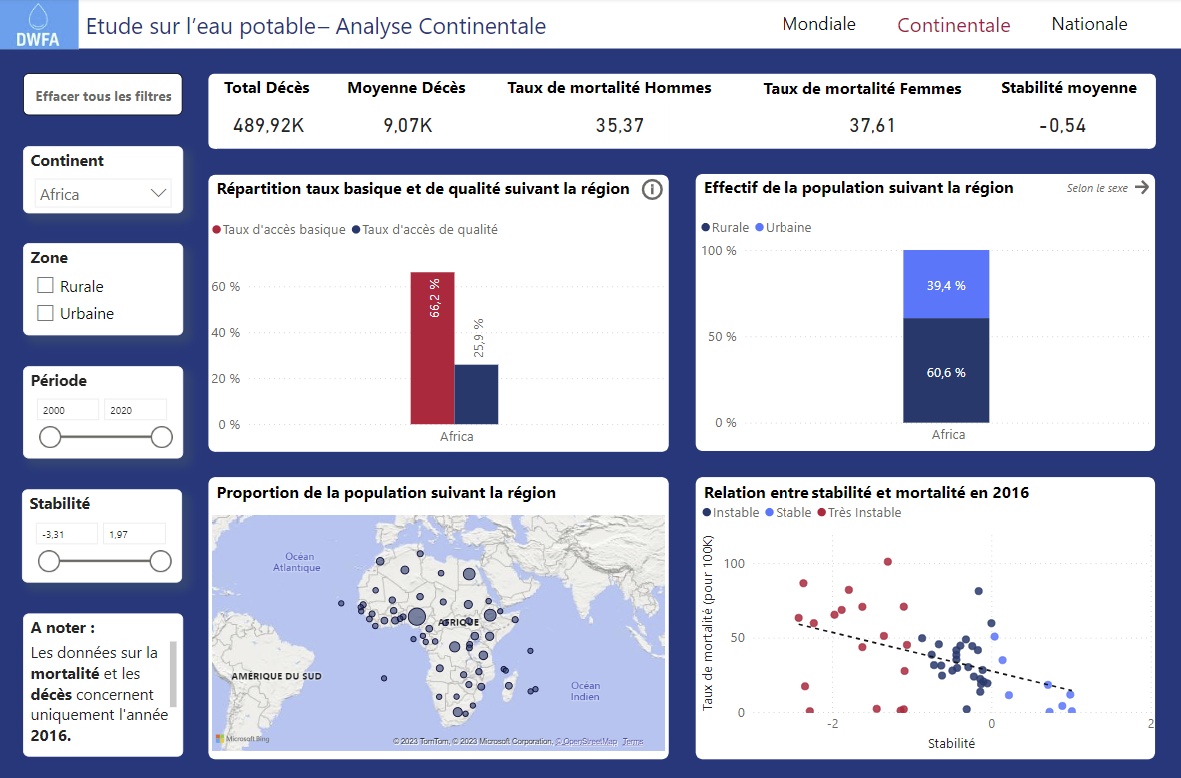

This screenshot's page, from the dashboard's own definition file:
{"tool":"powerbi","page":{"name":"Continentale","canvas":[1408,930],"ordinal":1},"visuals":[{"type":"card","fields":{"Values":["Data_2016.Total Décès"]},"box":[261.9,125,120,50],"z":0},{"type":"card","fields":{"Values":["Data_2016.Taux de mortalité femmes"]},"box":[678.4,125,119.6,49.5],"z":1000},{"type":"textbox","title":"A noter :","box":[30,730,190,169.8],"z":2000},{"type":"card","fields":{"Values":["Data_2016.Moyenne des Décès"]},"box":[426.8,125,119.6,49.5],"z":3000},{"type":"card","fields":{"Values":["Data_Total.Avg Stabilité"]},"box":[1206.2,125,119.6,49.5],"z":4000},{"type":"card","fields":{"Values":["Data_2016.Taux de mortalité hommes"]},"box":[981.5,125,119.6,49.5],"z":5000},{"type":"scatterChart","fields":{"Series":["Dim_Stabilite.Classement Stabilité"],"Y":["Data_2016.Taux de mortalité (pour 100K)"],"X":["Data_2016.Stabilité"]},"box":[830.4,589.4,549.5,310.3],"z":6000},{"type":"pageNavigator","box":[901,0,475,60],"z":7000},{"type":"slicer","title":"Stabilité","fields":{"Values":["Dim_Stabilite.Stabilité"]},"box":[29,584,190,110],"z":8000},{"type":"actionButton","box":[30,90,189.7,50],"z":10000},{"type":"slicer","title":"Continent","fields":{"Values":["Dim_Pays.Continent"]},"box":[30,176,190,80],"z":11000},{"type":"actionButton","box":[760,210,35,35],"z":13000},{"type":"map","fields":{"Category":["Dim_Pays.Pays"],"Size":["Data_Total.% Proportion population globale"]},"box":[249.6,610.2,547.8,289.5],"z":14000},{"type":"columnChart","title":"% Rurale - Urbaine","fields":{"Category":["Dim_Pays.Continent"],"Series":["Data_Zone.Zone"],"Y":["Data_Zone.% Population (R/U)"]},"box":[829.7,250.8,549.7,290.3],"z":16000},{"type":"clusteredColumnChart","title":"% Population","fields":{"Category":["Dim_Pays.Continent"],"Y":["Data_Total.Avg Taux d'accès basique (%)","Data_Total.Avg Taux d'accès de qualité (%)"]},"box":[247.9,253.1,549.5,289.5],"z":18000},{"type":"slicer","title":"Zone","fields":{"Values":["Data_Zone.Zone"]},"box":[30,292,190,110],"z":19000},{"type":"actionButton","title":"Button selon sexe","box":[1265.6,210,110,30],"z":20000},{"type":"slicer","title":"Période","fields":{"Values":["Dim_Calendrier.Année"]},"box":[30,438,190,110],"z":22000}]}

Visuals, with their boxes in screenshot pixels (x1, y1, x2, y2), scaled from the page's 1408x930 canvas onto the 1181x778 screenshot:
card - Data_2016.Total Décès: pyautogui.locateOnScreen(220, 105, 320, 146)
card - Data_2016.Taux de mortalité femmes: pyautogui.locateOnScreen(569, 105, 669, 146)
"A noter :" textbox: pyautogui.locateOnScreen(25, 611, 185, 753)
card - Data_2016.Moyenne des Décès: pyautogui.locateOnScreen(358, 105, 458, 146)
card - Data_Total.Avg Stabilité: pyautogui.locateOnScreen(1012, 105, 1112, 146)
card - Data_2016.Taux de mortalité hommes: pyautogui.locateOnScreen(823, 105, 924, 146)
scatterChart - Dim_Stabilite.Classement Stabilité x Data_2016.Taux de mortalité (pour 100K): pyautogui.locateOnScreen(697, 493, 1157, 753)
pageNavigator: pyautogui.locateOnScreen(756, 0, 1154, 50)
"Stabilité" slicer: pyautogui.locateOnScreen(24, 489, 184, 581)
actionButton: pyautogui.locateOnScreen(25, 75, 184, 117)
"Continent" slicer: pyautogui.locateOnScreen(25, 147, 185, 214)
actionButton: pyautogui.locateOnScreen(637, 176, 667, 205)
map - Dim_Pays.Pays x Data_Total.% Proportion population globale: pyautogui.locateOnScreen(209, 510, 669, 753)
"% Rurale - Urbaine" columnChart: pyautogui.locateOnScreen(696, 210, 1157, 453)
"% Population" clusteredColumnChart: pyautogui.locateOnScreen(208, 212, 669, 454)
"Zone" slicer: pyautogui.locateOnScreen(25, 244, 185, 336)
"Button selon sexe" actionButton: pyautogui.locateOnScreen(1062, 176, 1154, 201)
"Période" slicer: pyautogui.locateOnScreen(25, 366, 185, 458)
